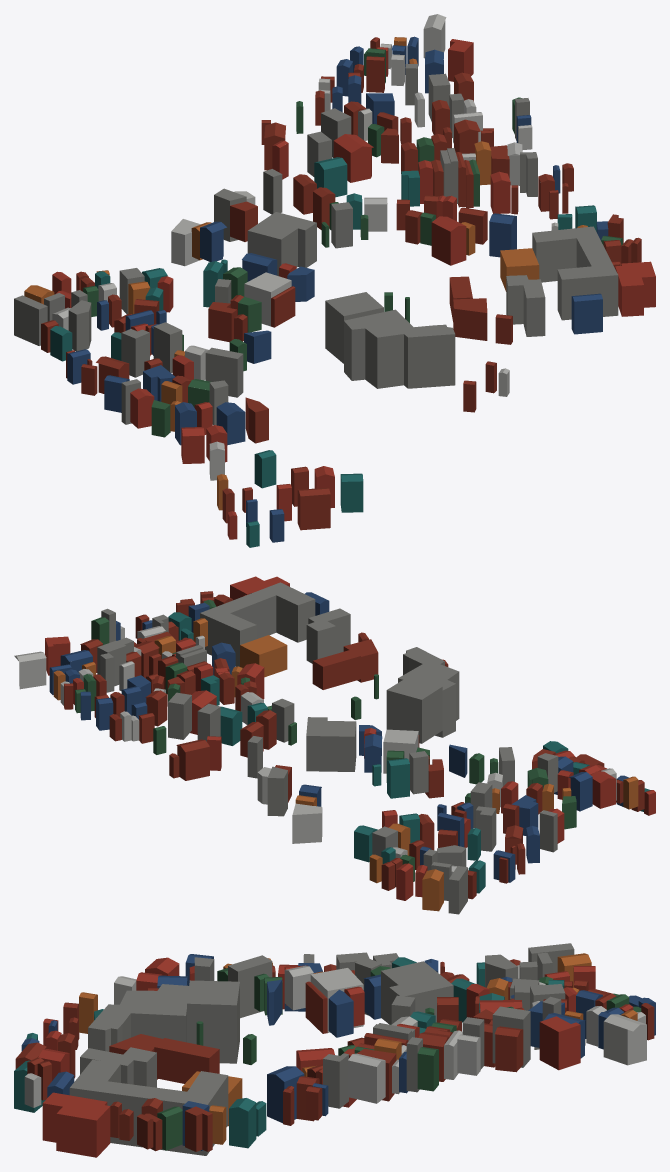
File: near-17-109431-59477.2d9d1cdf.glb
3 views of the same model, one above another, from view 1: azimuth 30°, elevation 25°; view 2: azimuth 150°, elevation 25°; view 3: azimuth 270°, elevation 25° (orthographic). The views are drawn at different scales.
Size of the model in its own units: 302 by 152 by 298.
